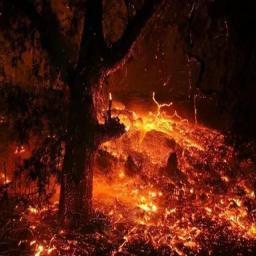Large fire: (0, 84, 255, 255)
